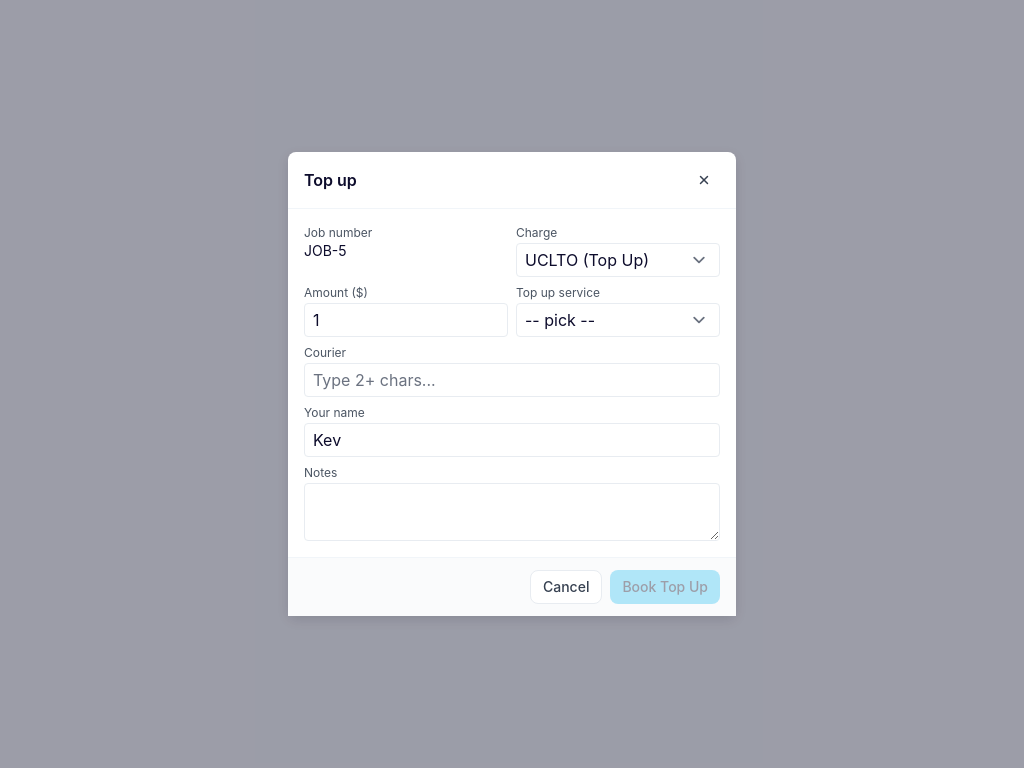
TopUpDialog › picks a courier + enables Book after all fields set
The width and height of the screenshot is (1024, 768).
Select "FRT" in the dropdown labelled "Top up service" at (618, 320), box [516,303,720,337]
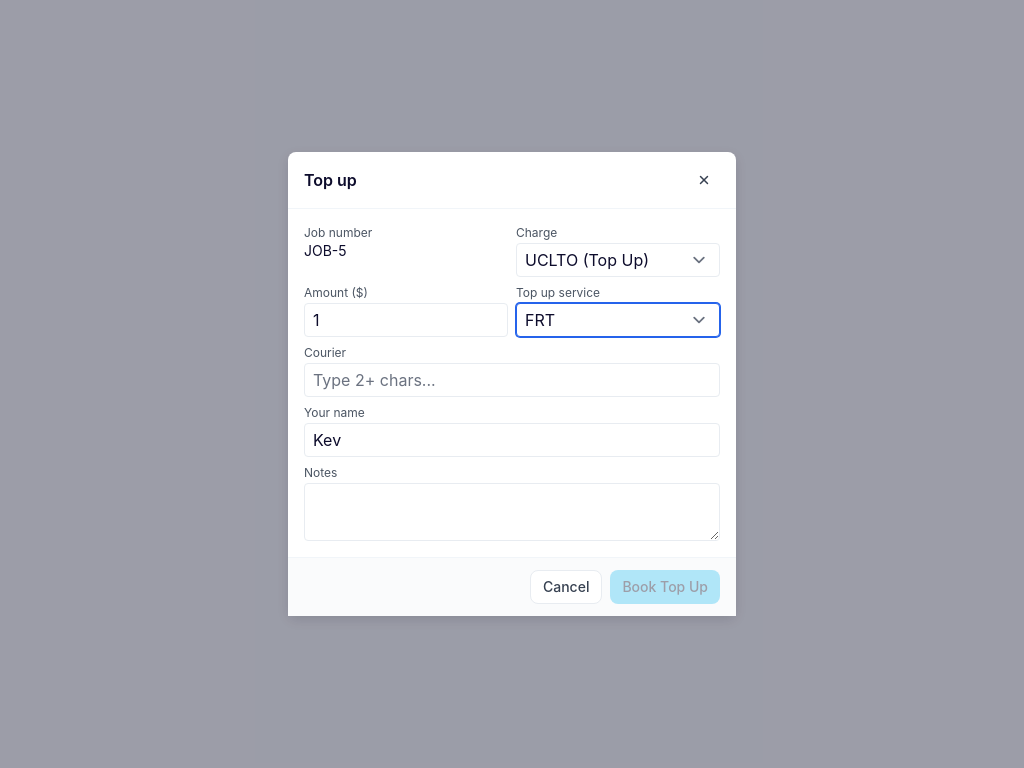
# search + pick courier
Type "ac" into the field with placeholder "Type 2+ chars...".
click(512, 380); type("ac")  # box [304,363,720,397]
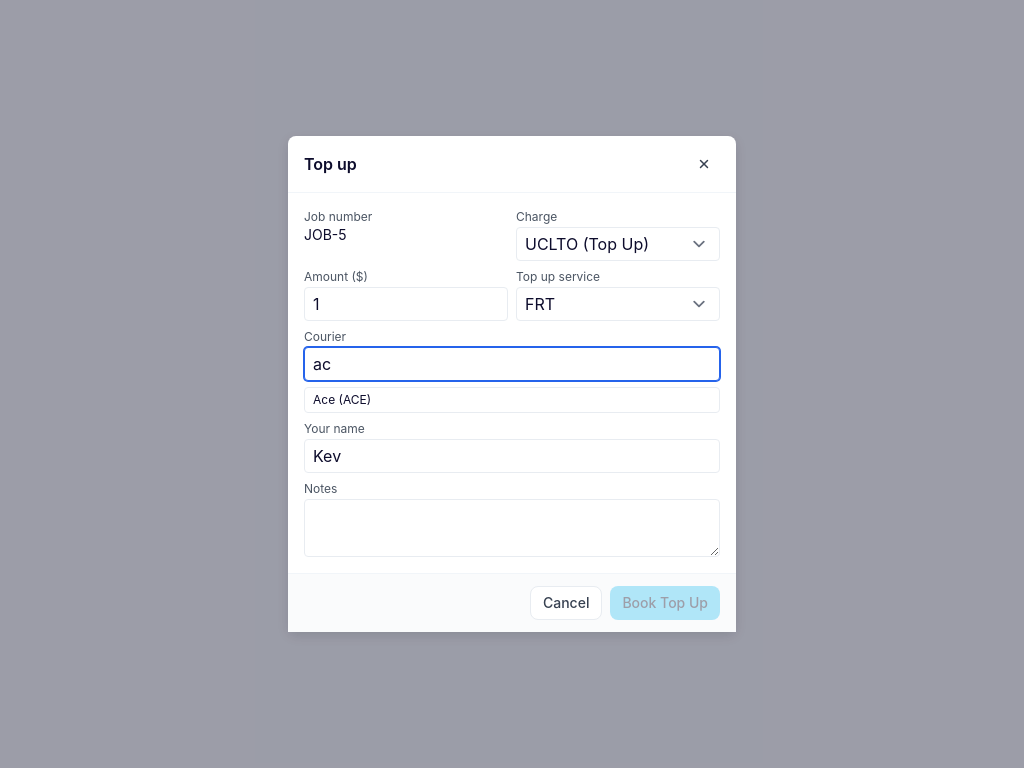
Click the button "Ace (ACE)".
click(324, 400)  # box [305,388,719,412]
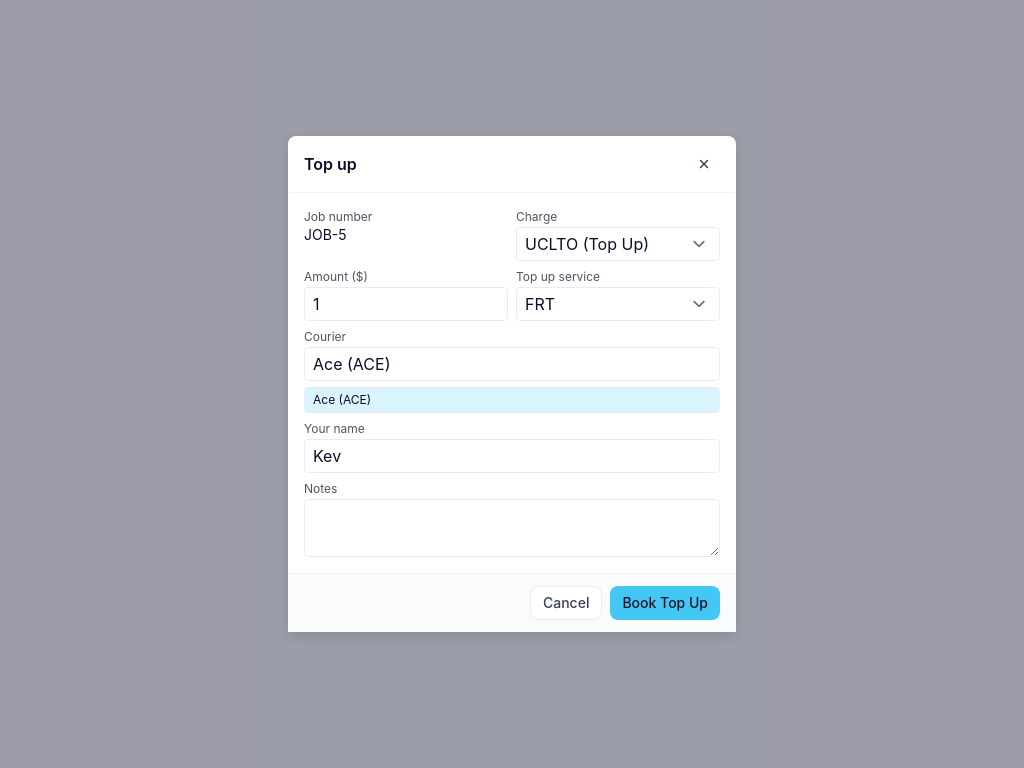
Now the button "Book Top Up" is enabled, box [610,586,720,620]
